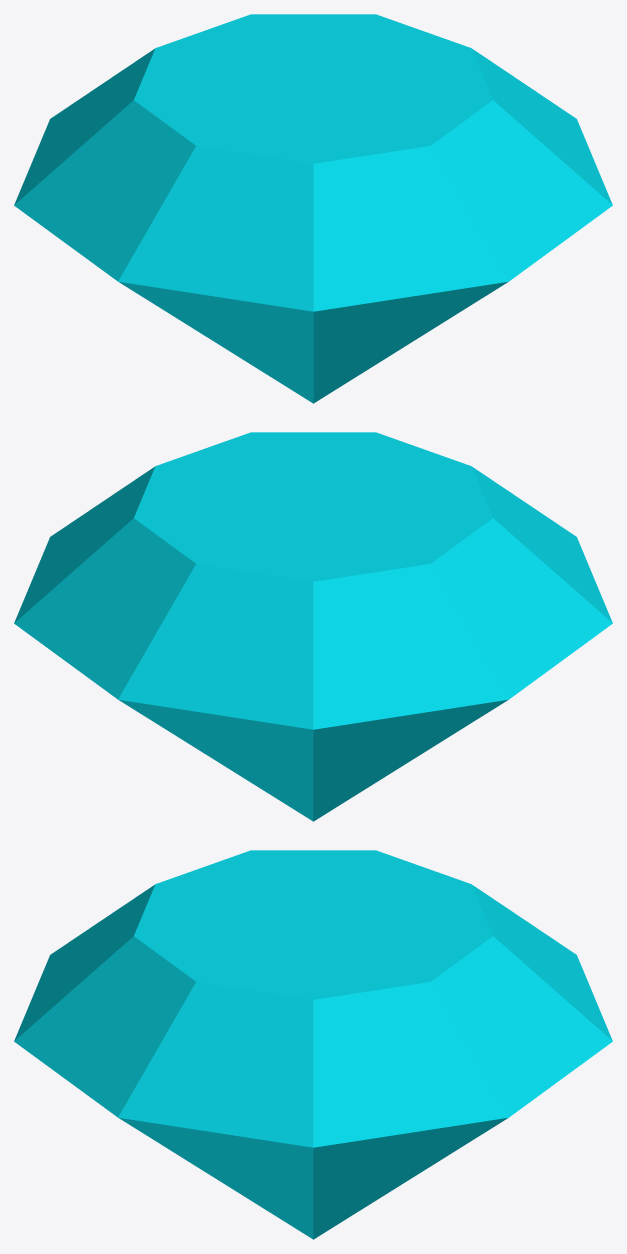
The model's file is Diamond.glb.
3 renders of one model, top to bottom at view 1: azimuth 30°, elevation 25°; view 2: azimuth 150°, elevation 25°; view 3: azimuth 270°, elevation 25°, orthographic.
Visible parts, largest first — view 1: Diamond; view 2: Diamond; view 3: Diamond.
Boxes of the visible parts, x1,y1,x2,y2 form: Diamond: [14, 14, 612, 403]; Diamond: [14, 432, 612, 821]; Diamond: [14, 850, 612, 1239].
Bounding box in the file's own units: 1.94 × 1.15 × 1.97.
